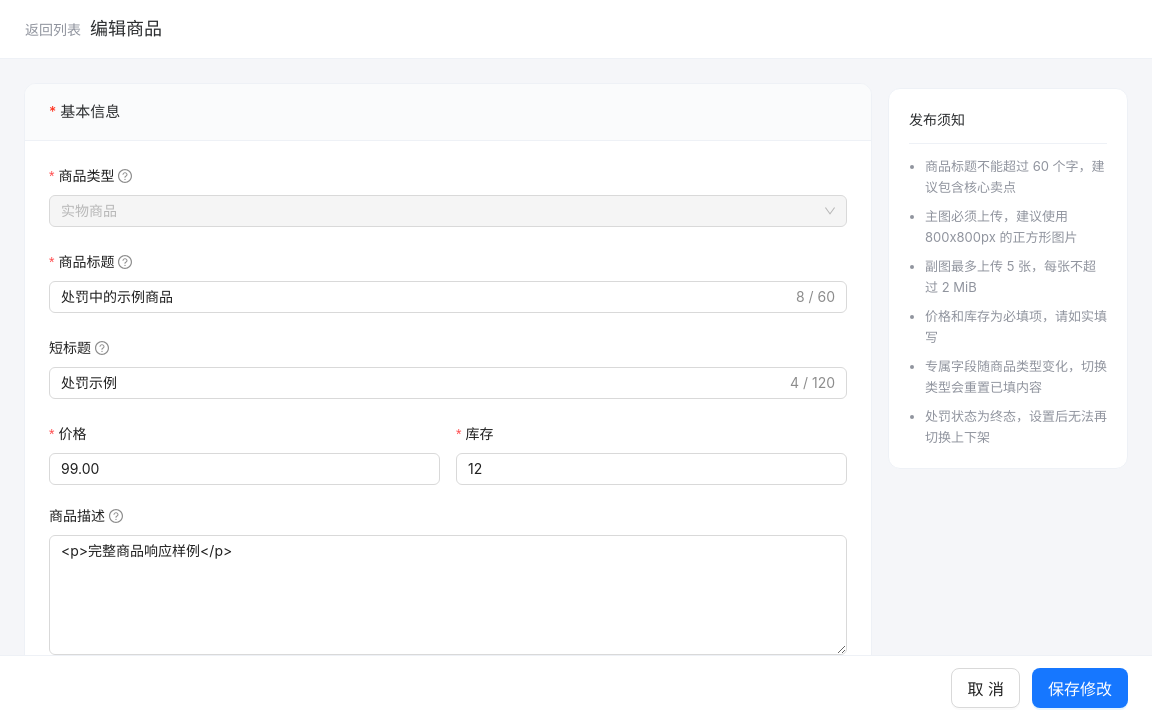
Test: ProductFormPage › 编辑时禁用状态并保留原状态提交
expect the search field labelled "商品类型" is disabled: met, box [49,165,146,187]
What coordinates should you click on to do the following:
click the button "保存修改"
I would click on:
 (1080, 688)
Its box is [1032,668,1128,708].
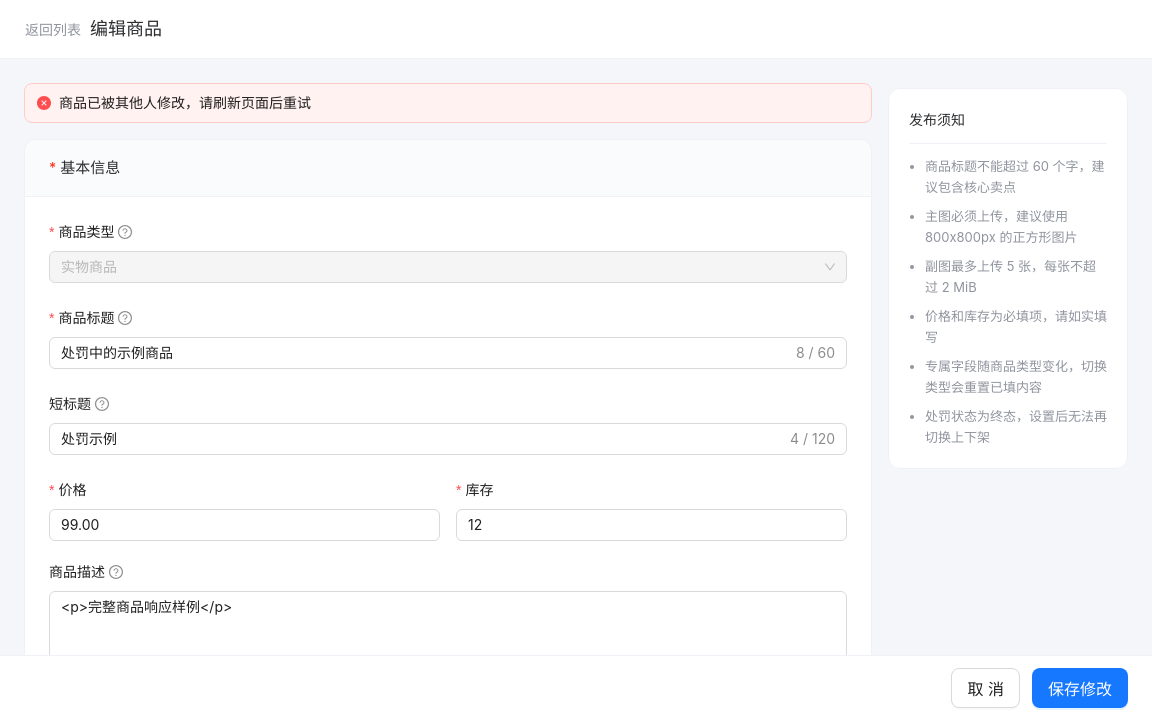
expect the message shows "刷新": met, box [24,83,872,123]
